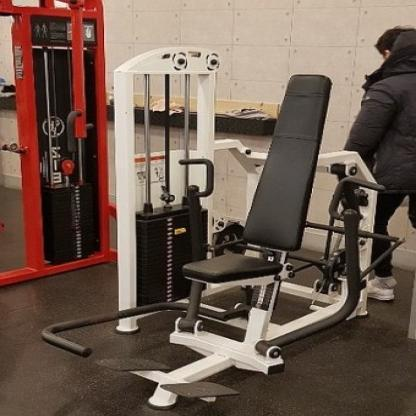Chest Press machine: (27, 34, 416, 416)
